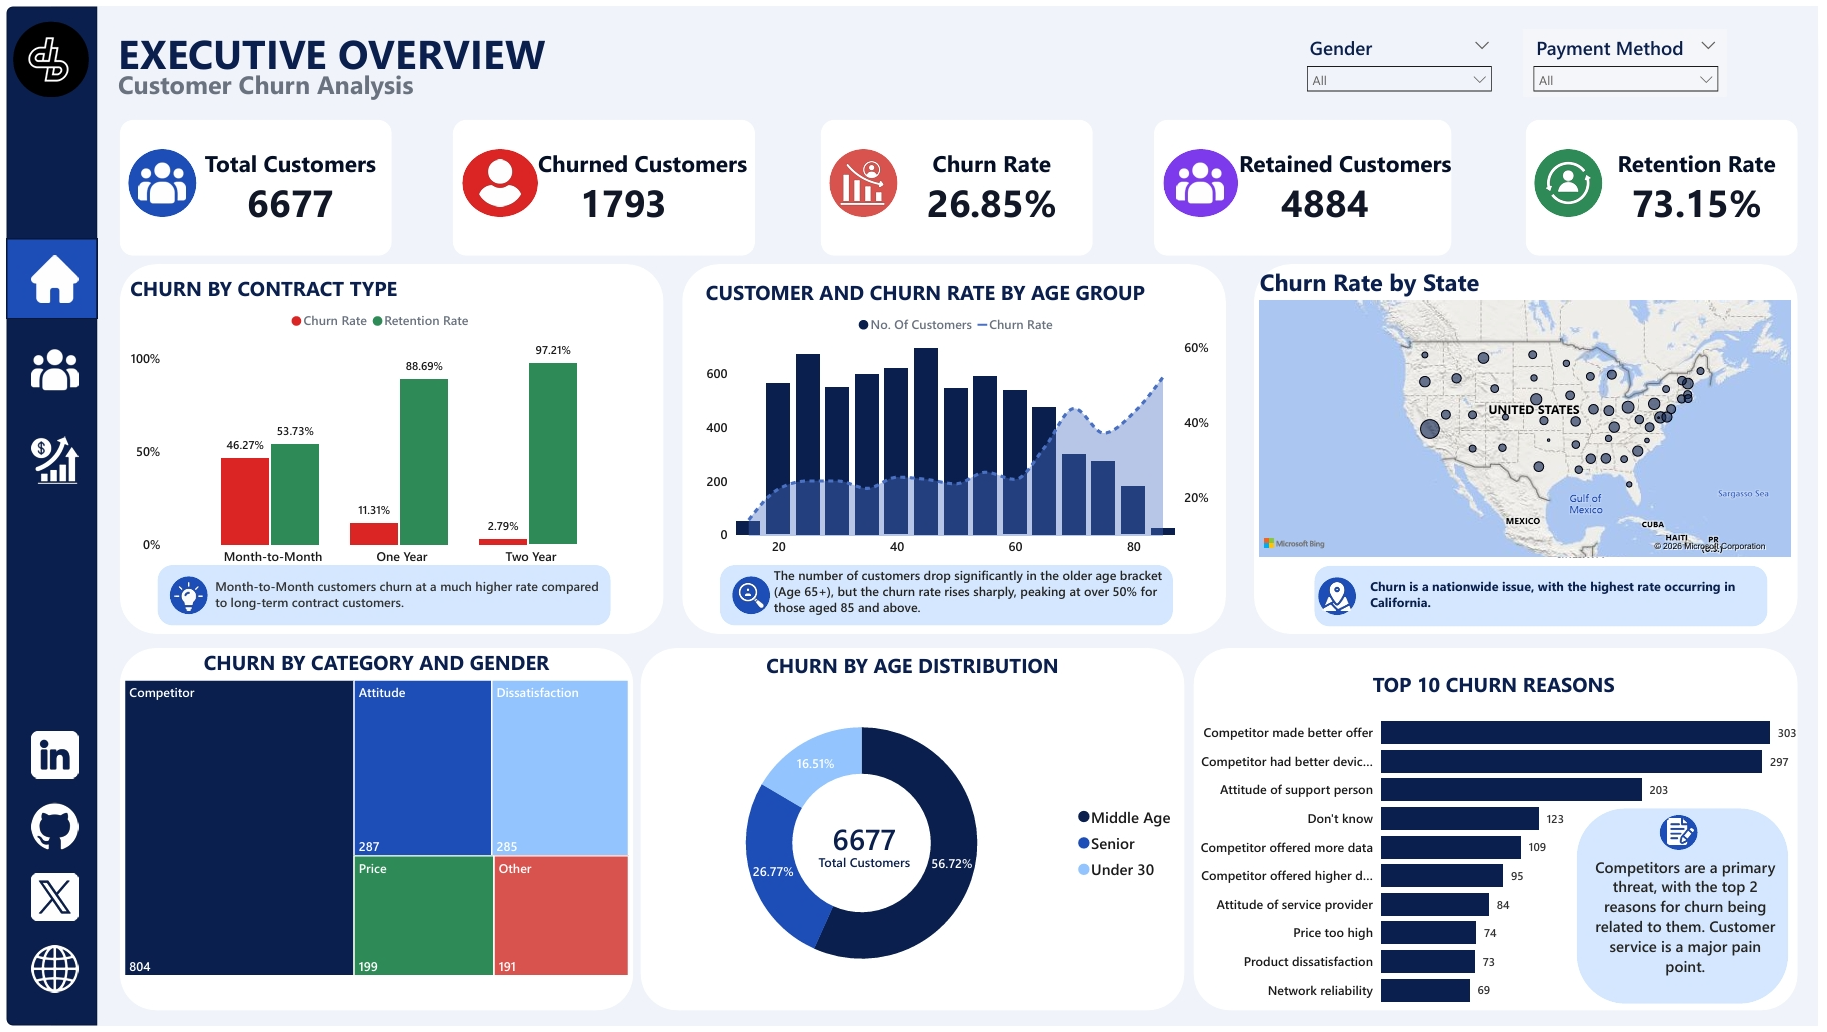

The page's visual inventory and layout, read from the dashboard file:
{"tool":"powerbi","page":{"name":"Executive Overview","canvas":[1920,1080],"ordinal":0},"visuals":[{"type":"shape","box":[48,-8,1872,1088],"z":0},{"type":"group","id":"g1","title":"Group 2","box":[120,120,288,144],"z":0,"group":"g15"},{"type":"shape","box":[120,120,288,144],"z":0,"group":"g1"},{"type":"group","id":"g2","title":"Group 2","box":[473.2,120,320,144],"z":0,"group":"g24"},{"type":"shape","box":[473.2,120,320,144],"z":0,"group":"g2"},{"type":"group","id":"g3","title":"Group 2","box":[862.5,120,288,144],"z":0,"group":"g16"},{"type":"shape","box":[862.5,120,288,144],"z":0,"group":"g3"},{"type":"group","id":"g4","title":"Group 2","box":[1215.8,120,315,144],"z":0,"group":"g25"},{"type":"shape","box":[1215.8,120,315,144],"z":0,"group":"g4"},{"type":"group","id":"g5","title":"Group 2","box":[1610,120,288,144],"z":0,"group":"g17"},{"type":"shape","box":[1610,120,288,144],"z":0,"group":"g5"},{"type":"shape","box":[129,151,72,72],"z":0,"group":"g6"},{"type":"shape","box":[483.2,151,80,72],"z":0,"group":"g7"},{"type":"shape","box":[871.5,151,72,72],"z":0,"group":"g8"},{"type":"shape","box":[1225.6,151,78.8,72],"z":0,"group":"g9"},{"type":"shape","box":[1619,151,72,72],"z":0,"group":"g10"},{"type":"shape","box":[120,273,576,392],"z":0,"group":"g14"},{"type":"shape","box":[716,273,576,392],"z":0,"group":"g13"},{"type":"shape","box":[1322,273,576,392],"z":0,"group":"g19"},{"type":"textbox","box":[808,589,450,80],"z":0,"group":"g21"},{"type":"shape","box":[173,604,40,40],"z":0,"group":"g20"},{"type":"shape","box":[769,604,40,40],"z":0,"group":"g11"},{"type":"shape","box":[1390,605,40,40],"z":0,"group":"g22"},{"type":"donutChart","title":"CHURN BY AGE DISTRIBUTION","fields":{"Y":["_Calculations.No. Of Churned Customers"],"Category":["DimCustomer.Age Distribution"]},"box":[672,683,576,378],"z":0,"group":"g18"},{"type":"card","fields":{"Values":["_Calculations.No. of Customers"]},"box":[744,753.9,330.4,257.7],"z":0,"group":"g12"},{"type":"shape","box":[1664,849.8,224,206.8],"z":0,"group":"g23"},{"type":"shape","box":[0,0,96,1080],"z":1000},{"type":"card","fields":{"Values":["CountNonNull(DimCustomer.Customer ID)"]},"box":[217,135,168,144],"z":1000,"group":"g15"},{"type":"card","fields":{"Values":["_Calculations.No. Of Churned Customers"]},"box":[570.2,135,168,144],"z":1000,"group":"g24"},{"type":"card","fields":{"Values":["_Calculations.Churn Rate"]},"box":[959.5,135,168,144],"z":1000,"group":"g16"},{"type":"card","fields":{"Values":["_Calculations.No. of Retained Customers"]},"box":[1312.8,135,168,144],"z":1000,"group":"g25"},{"type":"card","fields":{"Values":["_Calculations.Retention Rate"]},"box":[1707,135,168,144],"z":1000,"group":"g17"},{"type":"group","id":"g6","title":"Group 1","box":[129,151,72,72],"z":1000,"group":"g1"},{"type":"group","id":"g7","title":"Group 1","box":[483.2,151,80,72],"z":1000,"group":"g2"},{"type":"group","id":"g8","title":"Group 1","box":[871.5,151,72,72],"z":1000,"group":"g3"},{"type":"group","id":"g9","title":"Group 1","box":[1225.6,151,78.8,72],"z":1000,"group":"g4"},{"type":"group","id":"g10","title":"Group 1","box":[1619,151,72,72],"z":1000,"group":"g5"},{"type":"image","box":[140,162,50,50],"z":1000,"group":"g6"},{"type":"image","box":[495.4,162,55.6,50],"z":1000,"group":"g7"},{"type":"image","box":[881.5,162,50,50],"z":1000,"group":"g8"},{"type":"image","box":[1236.5,162,54.7,50],"z":1000,"group":"g9"},{"type":"image","box":[1630,162,50,50],"z":1000,"group":"g10"},{"type":"shape","box":[160,592,480,64],"z":1000,"group":"g14"},{"type":"shape","box":[756,592,480,64],"z":1000,"group":"g13"},{"type":"shape","box":[1386,593,480,64],"z":1000,"group":"g19"},{"type":"group","id":"g11","title":"Group 8","box":[769,604,40,40],"z":1000,"group":"g21"},{"type":"image","box":[774,609,30,30],"z":1000,"group":"g11"},{"type":"image","box":[178,610,30,30],"z":1000,"group":"g20"},{"type":"image","box":[1395,610,30,30],"z":1000,"group":"g22"},{"type":"group","id":"g12","title":"Group 4","box":[744,753.9,338.8,240.5],"z":1000,"group":"g18"},{"type":"shape","box":[1752,857.2,40,36.9],"z":1000,"group":"g23"},{"type":"textbox","box":[841.4,892.4,135.5,34.4],"z":1000,"group":"g12"},{"type":"textbox","box":[205,144,192,48],"z":2000,"group":"g15"},{"type":"textbox","box":[558.2,144,239,48],"z":2000,"group":"g24"},{"type":"textbox","box":[947.5,144,192,48],"z":2000,"group":"g16"},{"type":"textbox","box":[1300.8,144,244,48],"z":2000,"group":"g25"},{"type":"textbox","box":[1695,144,192,48],"z":2000,"group":"g17"},{"type":"shape","box":[0,246,96,85],"z":2000},{"type":"textbox","box":[216,601,432,64],"z":2000,"group":"g14"},{"type":"image","box":[1759,860.9,30,27.7],"z":2000,"group":"g23"},{"type":"group","id":"g13","title":"Group 6","box":[716,273,576,392],"z":3000},{"type":"shape","box":[1258,680,640,384],"z":4000},{"type":"shape","box":[672,680,576,384],"z":5000},{"type":"shape","box":[120,680,544,384],"z":6000},{"type":"group","id":"g14","title":"Group 6","box":[120,273,576,392],"z":7000},{"type":"image","box":[26,264,50,50],"z":8000},{"type":"image","box":[26,360,50,50],"z":9000},{"type":"image","box":[26,456,50,50],"z":10000},{"type":"textbox","box":[113,15,504,96],"z":11000},{"type":"textbox","box":[113,59,432,48],"z":12000},{"type":"image","box":[26,768,50,50],"z":13000},{"type":"image","box":[26,843.7,50,50],"z":14000},{"type":"image","box":[26,919.3,50,50],"z":15000},{"type":"image","box":[26,995,50,50],"z":16000},{"type":"group","id":"g15","title":"Group 3","box":[120,120,288,159],"z":17000},{"type":"group","id":"g16","title":"Group 3","box":[862.5,120,288,159],"z":18000},{"type":"group","id":"g17","title":"Group 3","box":[1610,120,288,159],"z":19000},{"type":"clusteredColumnChart","title":"CHURN BY CONTRACT TYPE","fields":{"Category":["DimContract.Contract Type"],"Y":["_Calculations.Churn Rate","_Calculations.Retention Rate"]},"box":[126,282,544,320],"z":20000},{"type":"lineClusteredColumnComboChart","title":"CUSTOMER AND CHURN RATE BY AGE GROUP","fields":{"Y2":["_Calculations.Churn Rate"],"Category":["DimCustomer.Age (bins)"],"Y":["CountNonNull(Databel - Data.Customer ID)"]},"box":[736,288,544,304],"z":21000},{"type":"treemap","title":"CHURN BY CATEGORY AND GENDER","fields":{"Group":["DimChurn.Churn Category","DimCustomer.Gender"],"Values":["_Calculations.No. Of Churned Customers"]},"box":[120,680,544,352],"z":22000},{"type":"clusteredBarChart","title":"TOP 10 CHURN REASONS","fields":{"Category":["DimChurn.Churn Reason"],"Y":["_Calculations.No. Of Churned Customers"]},"box":[1248,688,656,384],"z":23000},{"type":"group","id":"g18","title":"Group 5","box":[672,683,576,378],"z":24000},{"type":"group","id":"g19","title":"Group 6","box":[1322,273,576,392],"z":25000},{"type":"group","id":"g20","title":"Group 7","box":[173,604,40,40],"z":26000},{"type":"group","id":"g21","title":"Group 9","box":[769,589,489,80],"z":27000},{"type":"group","id":"g22","title":"Group 10","box":[1390,605,40,40],"z":28000},{"type":"group","id":"g23","title":"Group 11","box":[1664,849.8,224,206.8],"z":29000},{"type":"slicer","fields":{"Values":["Databel - Data.Gender"]},"box":[1368,24,216,72],"z":30000},{"type":"slicer","fields":{"Values":["Databel - Data.Payment Method"]},"box":[1608,24,216,72],"z":31000},{"type":"textbox","box":[1671,895.8,216,144],"z":32000},{"type":"group","id":"g24","title":"Group 3","box":[473.2,120,324,159],"z":33000},{"type":"group","id":"g25","title":"Group 3","box":[1215.8,120,329,159],"z":34000},{"type":"map","fields":{"Category":["Databel - Data.State"],"Size":["_Calculations.Churn Rate"]},"box":[1323,274,573,315],"z":35000},{"type":"textbox","box":[1440,600,416,48],"z":36000},{"type":"image","box":[7,16,80,80],"z":37000}]}

Visuals, with their boxes on the page's 1920x1080 design canvas (x1, y1, x2, y2). These are canvas units, not pixel positions in the 1827x1032 screenshot, which may show the page scaled, cropped or inside an application window:
shape: {"x1": 48, "y1": -8, "x2": 1920, "y2": 1080}
"Group 2" group: {"x1": 120, "y1": 120, "x2": 408, "y2": 264}
shape: {"x1": 120, "y1": 120, "x2": 408, "y2": 264}
"Group 2" group: {"x1": 473, "y1": 120, "x2": 793, "y2": 264}
shape: {"x1": 473, "y1": 120, "x2": 793, "y2": 264}
"Group 2" group: {"x1": 862, "y1": 120, "x2": 1150, "y2": 264}
shape: {"x1": 862, "y1": 120, "x2": 1150, "y2": 264}
"Group 2" group: {"x1": 1216, "y1": 120, "x2": 1531, "y2": 264}
shape: {"x1": 1216, "y1": 120, "x2": 1531, "y2": 264}
"Group 2" group: {"x1": 1610, "y1": 120, "x2": 1898, "y2": 264}
shape: {"x1": 1610, "y1": 120, "x2": 1898, "y2": 264}
shape: {"x1": 129, "y1": 151, "x2": 201, "y2": 223}
shape: {"x1": 483, "y1": 151, "x2": 563, "y2": 223}
shape: {"x1": 872, "y1": 151, "x2": 944, "y2": 223}
shape: {"x1": 1226, "y1": 151, "x2": 1304, "y2": 223}
shape: {"x1": 1619, "y1": 151, "x2": 1691, "y2": 223}
shape: {"x1": 120, "y1": 273, "x2": 696, "y2": 665}
shape: {"x1": 716, "y1": 273, "x2": 1292, "y2": 665}
shape: {"x1": 1322, "y1": 273, "x2": 1898, "y2": 665}
textbox: {"x1": 808, "y1": 589, "x2": 1258, "y2": 669}
shape: {"x1": 173, "y1": 604, "x2": 213, "y2": 644}
shape: {"x1": 769, "y1": 604, "x2": 809, "y2": 644}
shape: {"x1": 1390, "y1": 605, "x2": 1430, "y2": 645}
"CHURN BY AGE DISTRIBUTION" donutChart: {"x1": 672, "y1": 683, "x2": 1248, "y2": 1061}
card - _Calculations.No. of Customers: {"x1": 744, "y1": 754, "x2": 1074, "y2": 1012}
shape: {"x1": 1664, "y1": 850, "x2": 1888, "y2": 1057}
shape: {"x1": 0, "y1": 0, "x2": 96, "y2": 1080}
card - CountNonNull(DimCustomer.Customer ID): {"x1": 217, "y1": 135, "x2": 385, "y2": 279}
card - _Calculations.No. Of Churned Customers: {"x1": 570, "y1": 135, "x2": 738, "y2": 279}
card - _Calculations.Churn Rate: {"x1": 960, "y1": 135, "x2": 1128, "y2": 279}
card - _Calculations.No. of Retained Customers: {"x1": 1313, "y1": 135, "x2": 1481, "y2": 279}
card - _Calculations.Retention Rate: {"x1": 1707, "y1": 135, "x2": 1875, "y2": 279}
"Group 1" group: {"x1": 129, "y1": 151, "x2": 201, "y2": 223}
"Group 1" group: {"x1": 483, "y1": 151, "x2": 563, "y2": 223}
"Group 1" group: {"x1": 872, "y1": 151, "x2": 944, "y2": 223}
"Group 1" group: {"x1": 1226, "y1": 151, "x2": 1304, "y2": 223}
"Group 1" group: {"x1": 1619, "y1": 151, "x2": 1691, "y2": 223}
image: {"x1": 140, "y1": 162, "x2": 190, "y2": 212}
image: {"x1": 495, "y1": 162, "x2": 551, "y2": 212}
image: {"x1": 882, "y1": 162, "x2": 932, "y2": 212}
image: {"x1": 1236, "y1": 162, "x2": 1291, "y2": 212}
image: {"x1": 1630, "y1": 162, "x2": 1680, "y2": 212}
shape: {"x1": 160, "y1": 592, "x2": 640, "y2": 656}
shape: {"x1": 756, "y1": 592, "x2": 1236, "y2": 656}
shape: {"x1": 1386, "y1": 593, "x2": 1866, "y2": 657}
"Group 8" group: {"x1": 769, "y1": 604, "x2": 809, "y2": 644}
image: {"x1": 774, "y1": 609, "x2": 804, "y2": 639}
image: {"x1": 178, "y1": 610, "x2": 208, "y2": 640}
image: {"x1": 1395, "y1": 610, "x2": 1425, "y2": 640}
"Group 4" group: {"x1": 744, "y1": 754, "x2": 1083, "y2": 994}
shape: {"x1": 1752, "y1": 857, "x2": 1792, "y2": 894}
textbox: {"x1": 841, "y1": 892, "x2": 977, "y2": 927}
textbox: {"x1": 205, "y1": 144, "x2": 397, "y2": 192}
textbox: {"x1": 558, "y1": 144, "x2": 797, "y2": 192}
textbox: {"x1": 948, "y1": 144, "x2": 1140, "y2": 192}
textbox: {"x1": 1301, "y1": 144, "x2": 1545, "y2": 192}
textbox: {"x1": 1695, "y1": 144, "x2": 1887, "y2": 192}
shape: {"x1": 0, "y1": 246, "x2": 96, "y2": 331}
textbox: {"x1": 216, "y1": 601, "x2": 648, "y2": 665}
image: {"x1": 1759, "y1": 861, "x2": 1789, "y2": 889}
"Group 6" group: {"x1": 716, "y1": 273, "x2": 1292, "y2": 665}
shape: {"x1": 1258, "y1": 680, "x2": 1898, "y2": 1064}
shape: {"x1": 672, "y1": 680, "x2": 1248, "y2": 1064}
shape: {"x1": 120, "y1": 680, "x2": 664, "y2": 1064}
"Group 6" group: {"x1": 120, "y1": 273, "x2": 696, "y2": 665}
image: {"x1": 26, "y1": 264, "x2": 76, "y2": 314}
image: {"x1": 26, "y1": 360, "x2": 76, "y2": 410}
image: {"x1": 26, "y1": 456, "x2": 76, "y2": 506}
textbox: {"x1": 113, "y1": 15, "x2": 617, "y2": 111}
textbox: {"x1": 113, "y1": 59, "x2": 545, "y2": 107}
image: {"x1": 26, "y1": 768, "x2": 76, "y2": 818}
image: {"x1": 26, "y1": 844, "x2": 76, "y2": 894}
image: {"x1": 26, "y1": 919, "x2": 76, "y2": 969}
image: {"x1": 26, "y1": 995, "x2": 76, "y2": 1045}
"Group 3" group: {"x1": 120, "y1": 120, "x2": 408, "y2": 279}
"Group 3" group: {"x1": 862, "y1": 120, "x2": 1150, "y2": 279}
"Group 3" group: {"x1": 1610, "y1": 120, "x2": 1898, "y2": 279}
"CHURN BY CONTRACT TYPE" clusteredColumnChart: {"x1": 126, "y1": 282, "x2": 670, "y2": 602}
"CUSTOMER AND CHURN RATE BY AGE GROUP" lineClusteredColumnComboChart: {"x1": 736, "y1": 288, "x2": 1280, "y2": 592}
"CHURN BY CATEGORY AND GENDER" treemap: {"x1": 120, "y1": 680, "x2": 664, "y2": 1032}
"TOP 10 CHURN REASONS" clusteredBarChart: {"x1": 1248, "y1": 688, "x2": 1904, "y2": 1072}
"Group 5" group: {"x1": 672, "y1": 683, "x2": 1248, "y2": 1061}
"Group 6" group: {"x1": 1322, "y1": 273, "x2": 1898, "y2": 665}
"Group 7" group: {"x1": 173, "y1": 604, "x2": 213, "y2": 644}
"Group 9" group: {"x1": 769, "y1": 589, "x2": 1258, "y2": 669}
"Group 10" group: {"x1": 1390, "y1": 605, "x2": 1430, "y2": 645}
"Group 11" group: {"x1": 1664, "y1": 850, "x2": 1888, "y2": 1057}
slicer - Databel - Data.Gender: {"x1": 1368, "y1": 24, "x2": 1584, "y2": 96}
slicer - Databel - Data.Payment Method: {"x1": 1608, "y1": 24, "x2": 1824, "y2": 96}
textbox: {"x1": 1671, "y1": 896, "x2": 1887, "y2": 1040}
"Group 3" group: {"x1": 473, "y1": 120, "x2": 797, "y2": 279}
"Group 3" group: {"x1": 1216, "y1": 120, "x2": 1545, "y2": 279}
map - Databel - Data.State x _Calculations.Churn Rate: {"x1": 1323, "y1": 274, "x2": 1896, "y2": 589}
textbox: {"x1": 1440, "y1": 600, "x2": 1856, "y2": 648}
image: {"x1": 7, "y1": 16, "x2": 87, "y2": 96}
